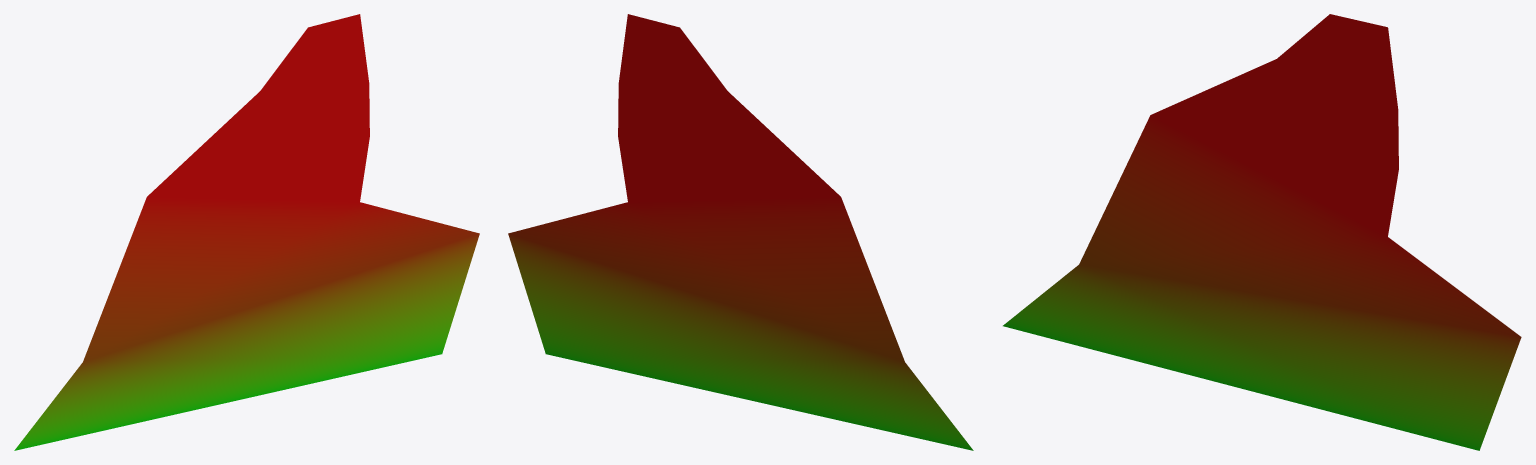
Rendered from Rubber Bush_LOD7_Var13_xffhfekia.fbx.
3 renders of one model, left to right at view 1: azimuth 30°, elevation 25°; view 2: azimuth 150°, elevation 25°; view 3: azimuth 330°, elevation 25°, orthographic. The views are drawn at different scales.
Visible parts, largest first — view 1: _j3i2_Var13_LOD7; view 2: _j3i2_Var13_LOD7; view 3: _j3i2_Var13_LOD7.
Part boxes in pixels (x1,y1,x2,y2): _j3i2_Var13_LOD7: (14, 14, 479, 450); _j3i2_Var13_LOD7: (508, 14, 973, 450); _j3i2_Var13_LOD7: (1003, 14, 1521, 450).
Size of the model in its own units: 124 by 91.26 by 1.1e-05.
